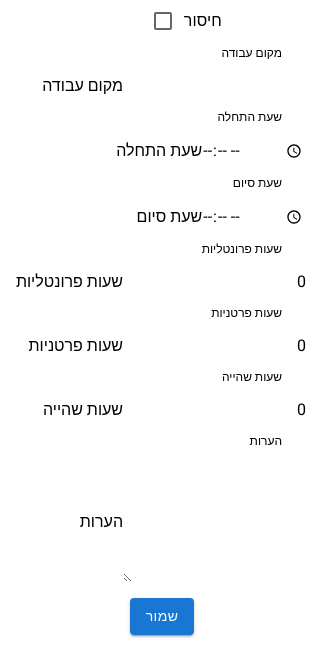
Test case: AttendanceDayForm Component › conditionally renders hour inputs when isAbsence is false
expect the time field labelled "שעת התחלה" is shown: met, box [202, 138, 306, 164]
expect the time field labelled "שעת סיום" is shown: met, box [202, 204, 306, 230]
// Check absence checkbox and verify hour inputs disappear
Click the checkbox labelled "חיסור". click: (186, 21)
box: [151, 9, 222, 33]
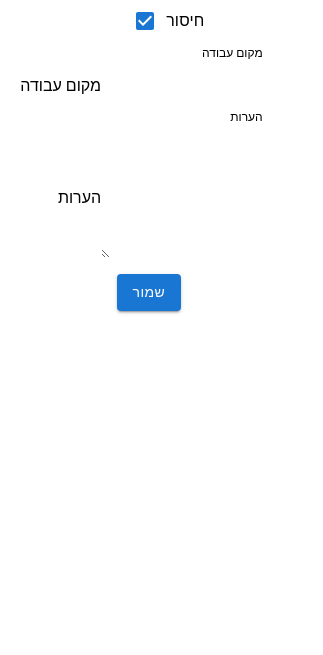
expect the label labelled "שעת התחלה" is gone: met
expect the label labelled "שעת סיום" is gone: met
expect the label labelled "שעות פרונטליות" is gone: met
